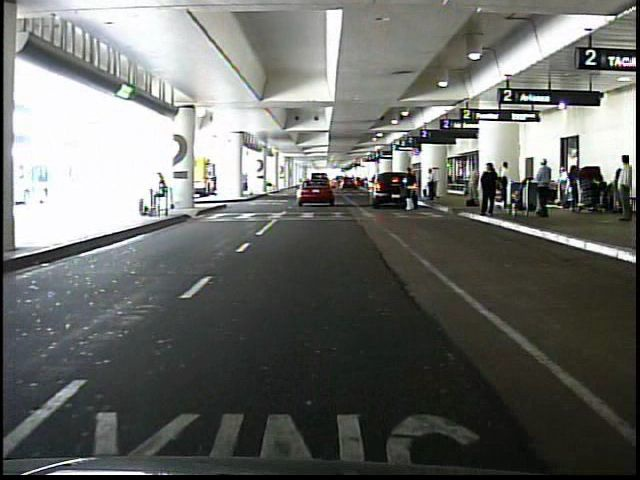person: (614, 155, 633, 224), (533, 156, 552, 218), (150, 172, 171, 220), (480, 161, 498, 215), (569, 164, 582, 212), (554, 168, 570, 206), (404, 167, 417, 213), (498, 160, 510, 201), (427, 168, 439, 203)
